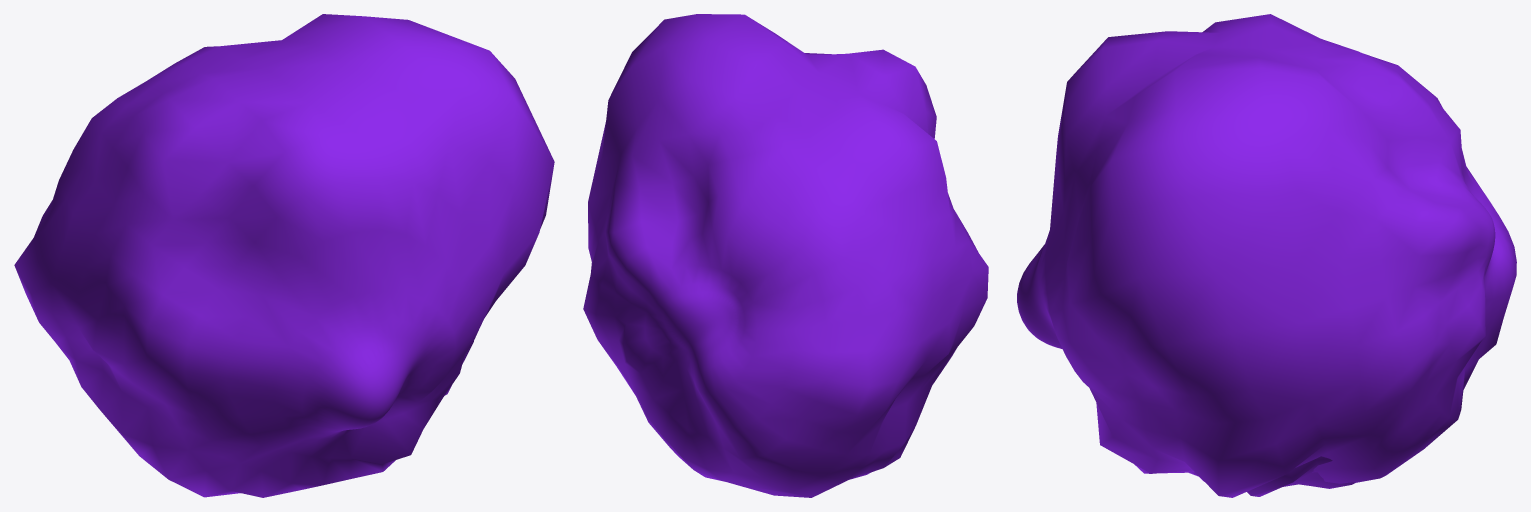
Rendered from Obs-Meteor.fbx.
3 views of the same model, side by side, from view 1: azimuth 30°, elevation 25°; view 2: azimuth 150°, elevation 25°; view 3: azimuth 270°, elevation 25° (orthographic). The views are drawn at different scales.
Visible parts, largest first — view 1: meteor_Huge; view 2: meteor_Huge; view 3: meteor_Huge, meteor_Mid.
Boxes of the visible parts, x1=… form: meteor_Huge: x1=14, y1=14, x2=554, y2=497; meteor_Huge: x1=583, y1=14, x2=988, y2=497; meteor_Huge: x1=1017, y1=14, x2=1516, y2=497; meteor_Mid: x1=1192, y1=456, x2=1355, y2=496.
Size of the model in its own units: 6.17 by 6.39 by 6.26.
